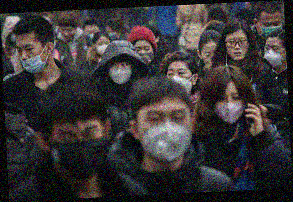mask_weared_incorrect: (17, 40, 49, 74)
with_mask: (50, 122, 110, 181), (138, 106, 194, 165), (213, 90, 246, 125), (166, 65, 194, 96), (263, 41, 287, 69), (109, 61, 133, 86), (257, 17, 283, 39), (134, 43, 155, 65), (96, 39, 110, 57)
without_mask: (226, 35, 251, 60), (59, 25, 78, 41)
